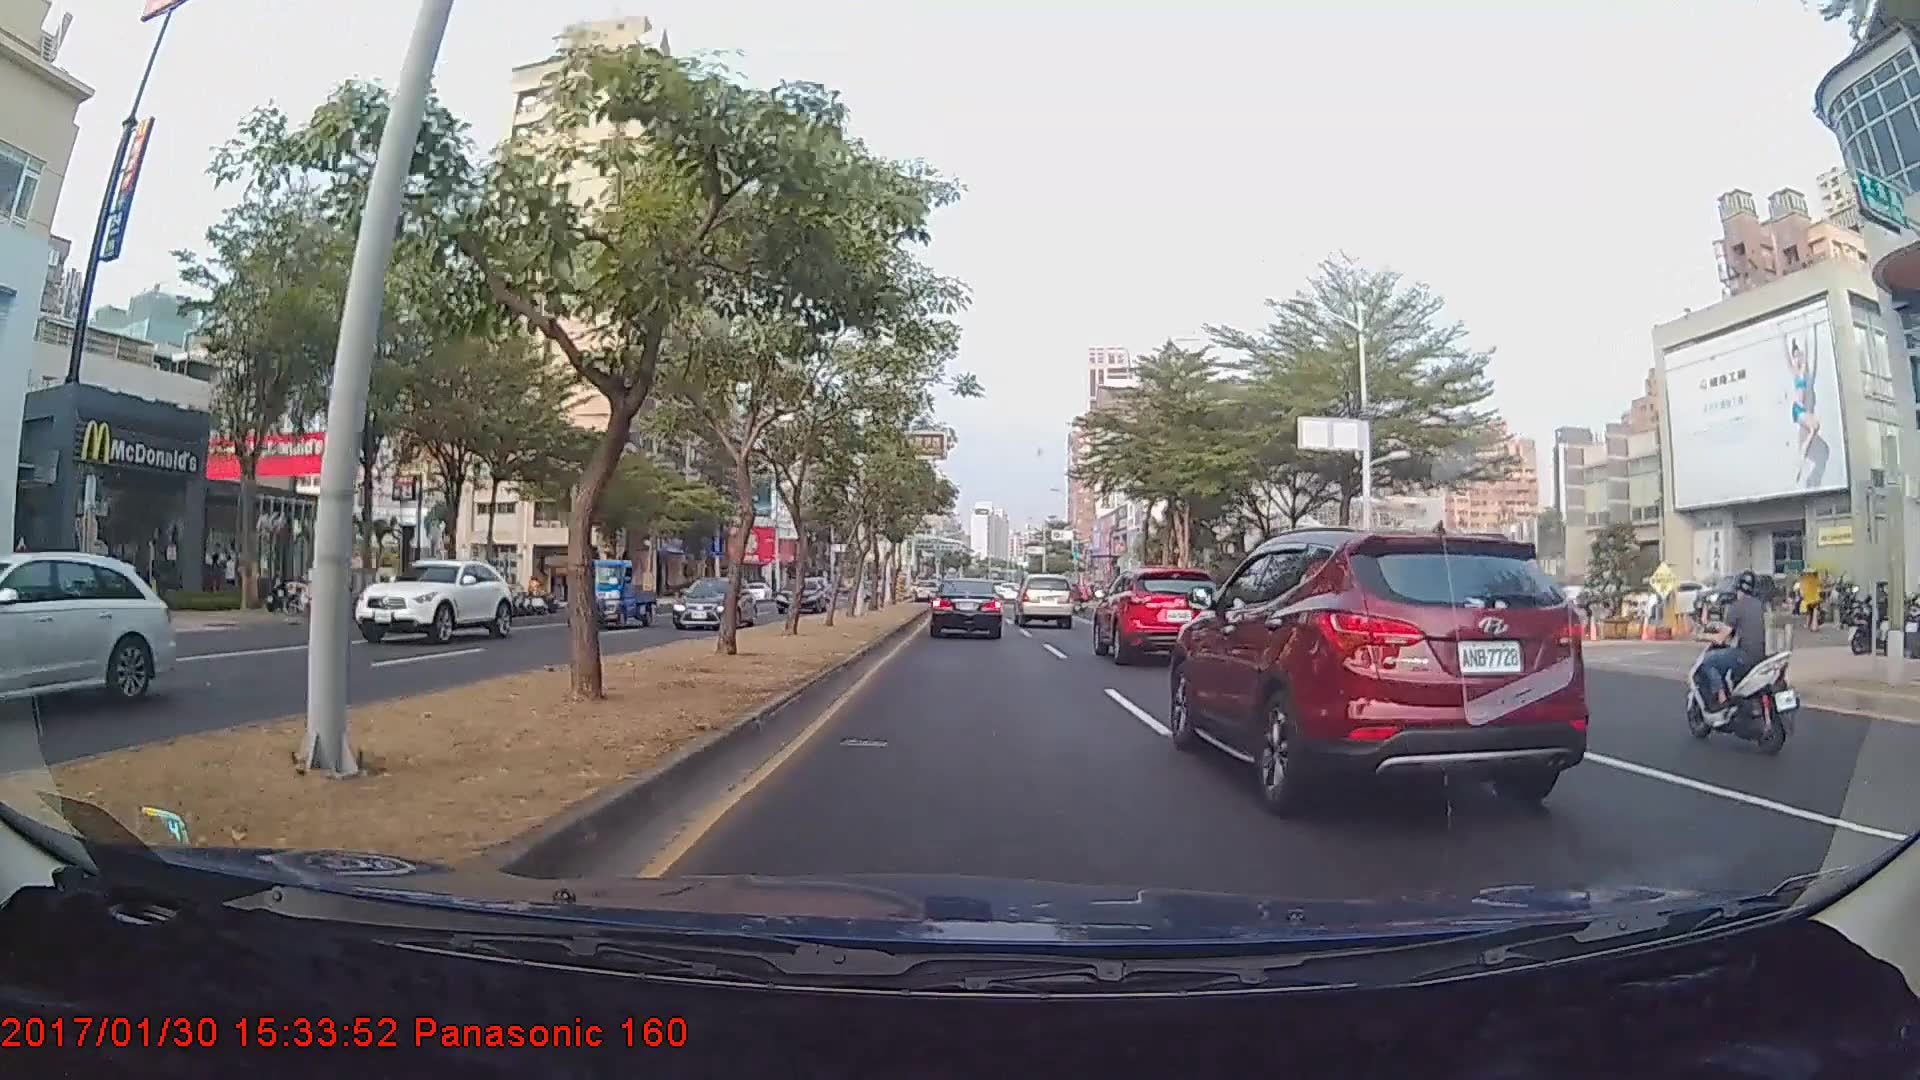rider: (1682, 566, 1804, 758)
vehicle: (1181, 525, 1582, 800), (0, 549, 175, 723), (351, 556, 515, 642), (1091, 564, 1222, 665), (567, 558, 661, 628), (671, 574, 755, 631), (930, 577, 1003, 639), (1014, 573, 1074, 628), (778, 575, 828, 615)
